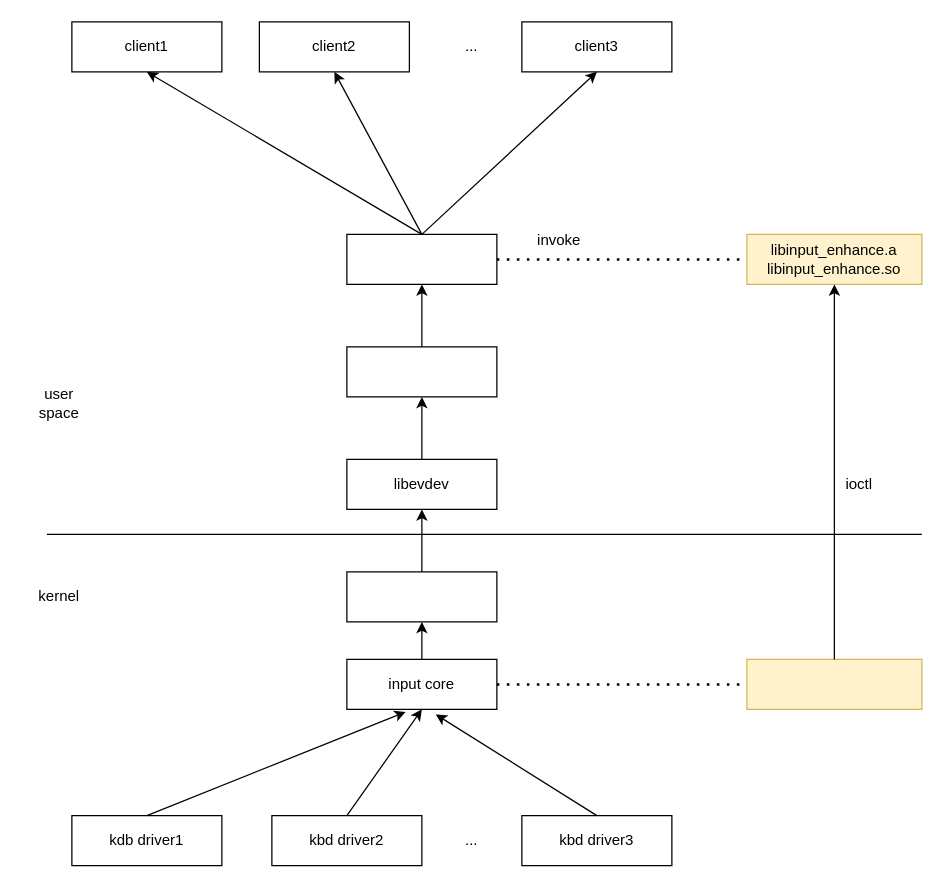
The diagram is 945 pixels wide and 888 high, and some of its shapes have lost their labels. Each missing label, with the box of its shape:
evdev: (346, 571, 497, 622)
input-enhance built in module: (746, 658, 922, 709)
kwin_wayland: (346, 233, 497, 284)
libinput: (346, 346, 497, 397)
